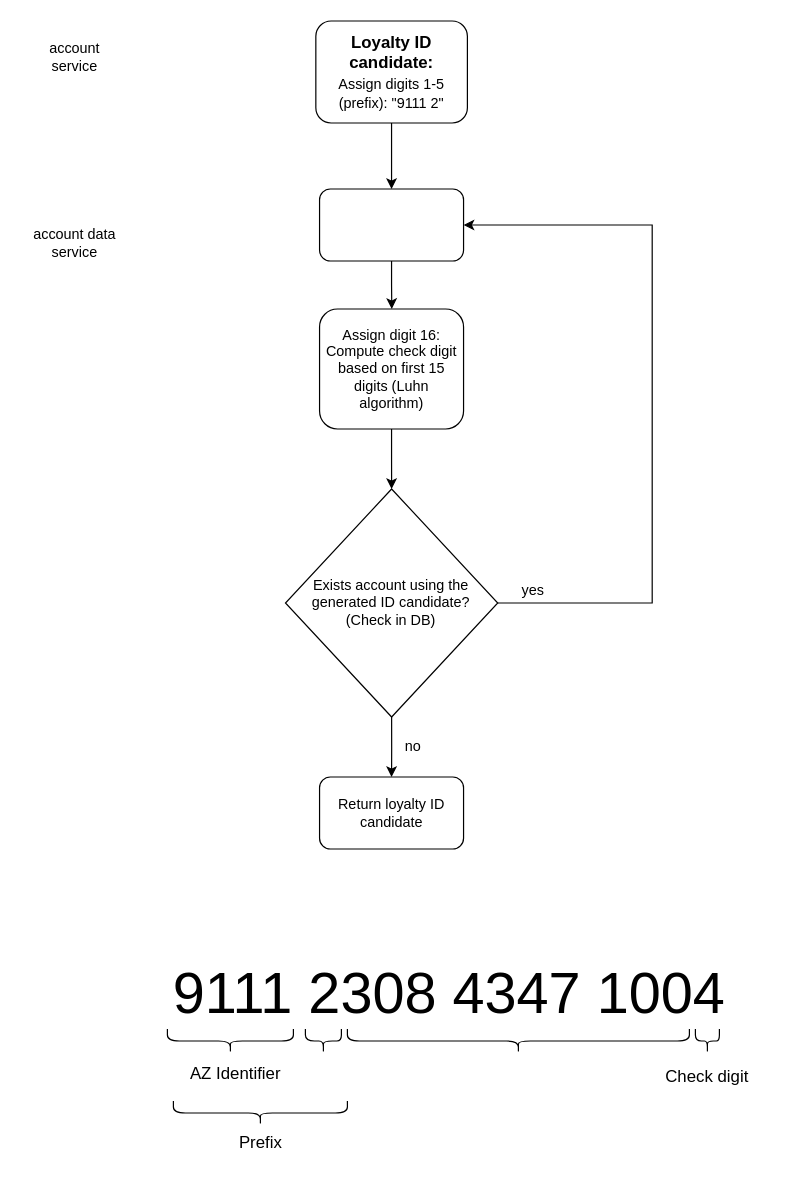
Some shapes in this 794 by 1182 pixel diagram are drawn without their labels. The shapes that lost their labels are listed below. From the top down, each one's box as (x1, y1, x2, y2) in pixels, then its label:
(318, 188, 464, 261): Assign digits 6-15: random digits
(304, 1028, 341, 1053): Range
(346, 1028, 689, 1053): Random digits
